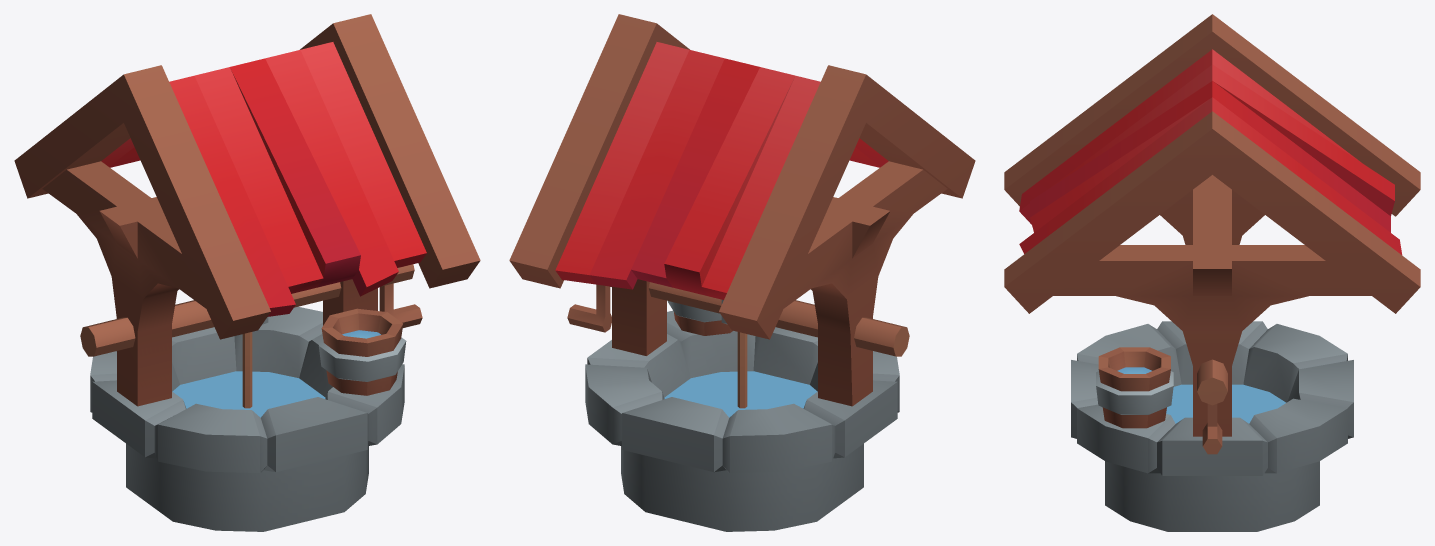
File: building_well_red.gltf
The picture shows the model from 3 angles, left to right: view 1: azimuth 30°, elevation 25°; view 2: azimuth 150°, elevation 25°; view 3: azimuth 270°, elevation 25°; orthographic projection. The views are drawn at different scales.
Parts seen in each view (by area): view 1: building_well_red; view 2: building_well_red; view 3: building_well_red.
Boxes of the visible parts, box(x1,y1,x2,y2) form: building_well_red: box(14, 14, 480, 531); building_well_red: box(509, 14, 975, 531); building_well_red: box(1004, 14, 1420, 531).
Size of the model in its own units: 0.6518 by 0.826 by 0.7507.
Materials: 1 (1 with a texture image).
